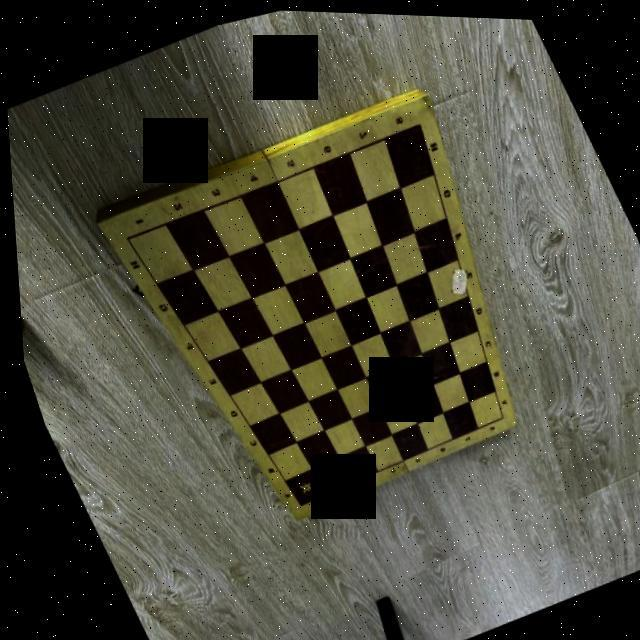chess-table-corners: (409, 112, 427, 130), (118, 230, 132, 247), (489, 407, 504, 421), (287, 496, 300, 510)
